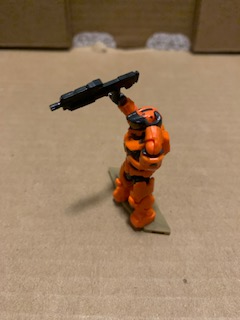rifle: (44, 69, 142, 114)
spartan: (106, 88, 172, 235)
up: (104, 83, 173, 173)
